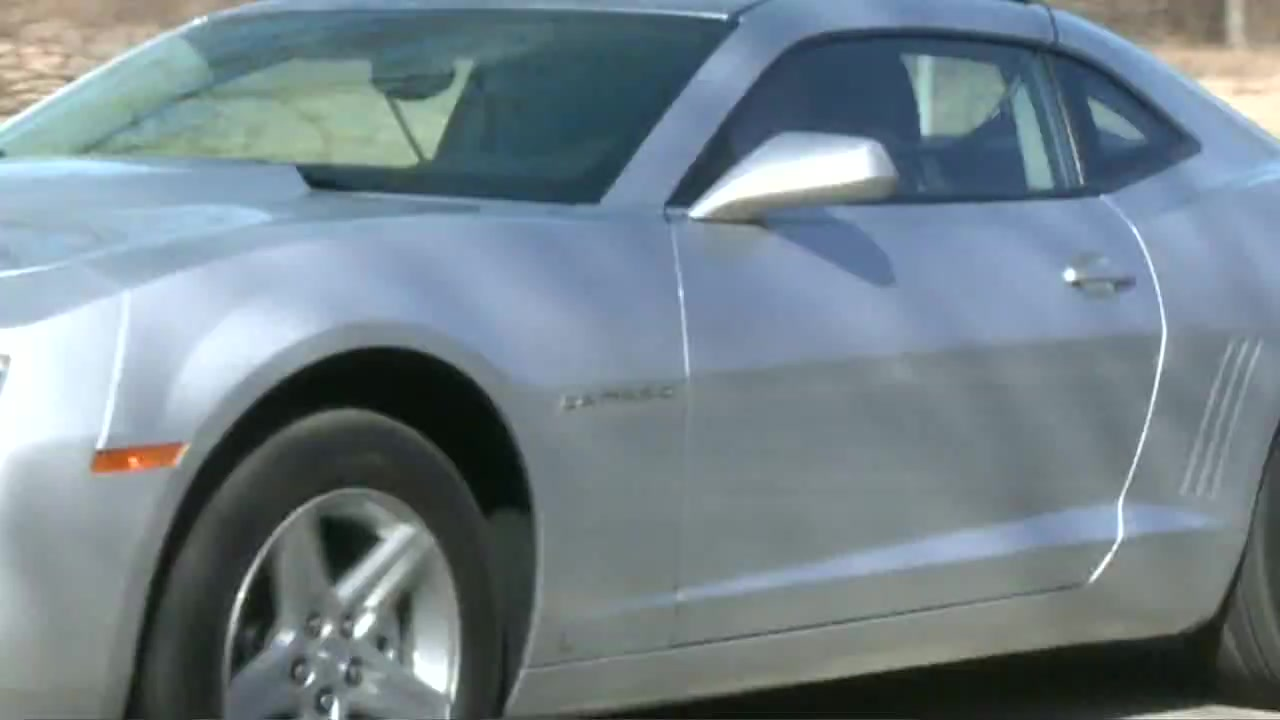car: (1, 1, 1278, 720)
